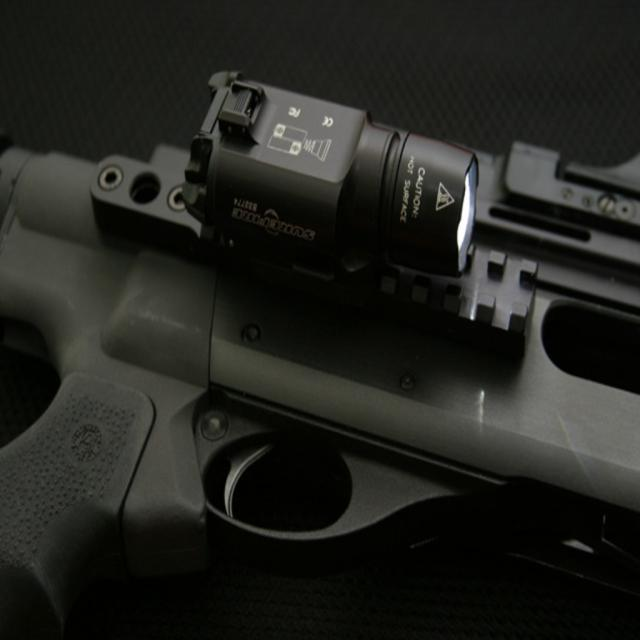Gun: (0, 71, 640, 639)
